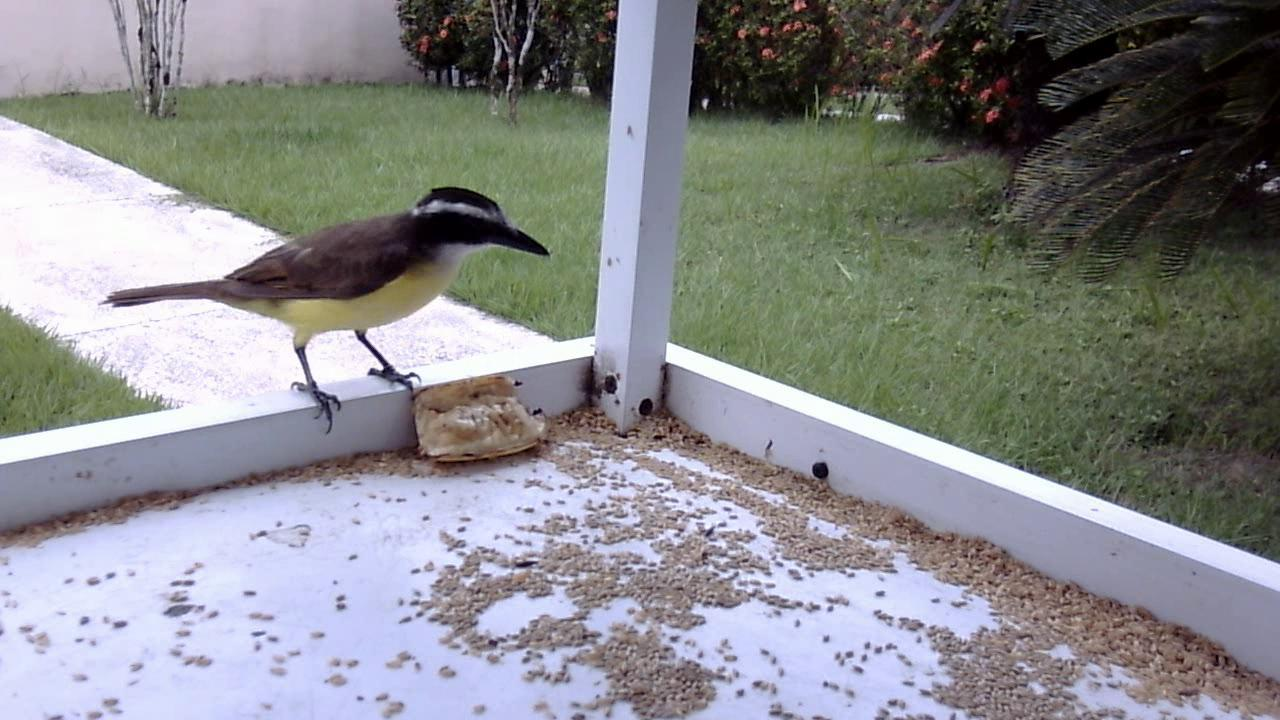bem_te_vi: (94, 184, 551, 435)
